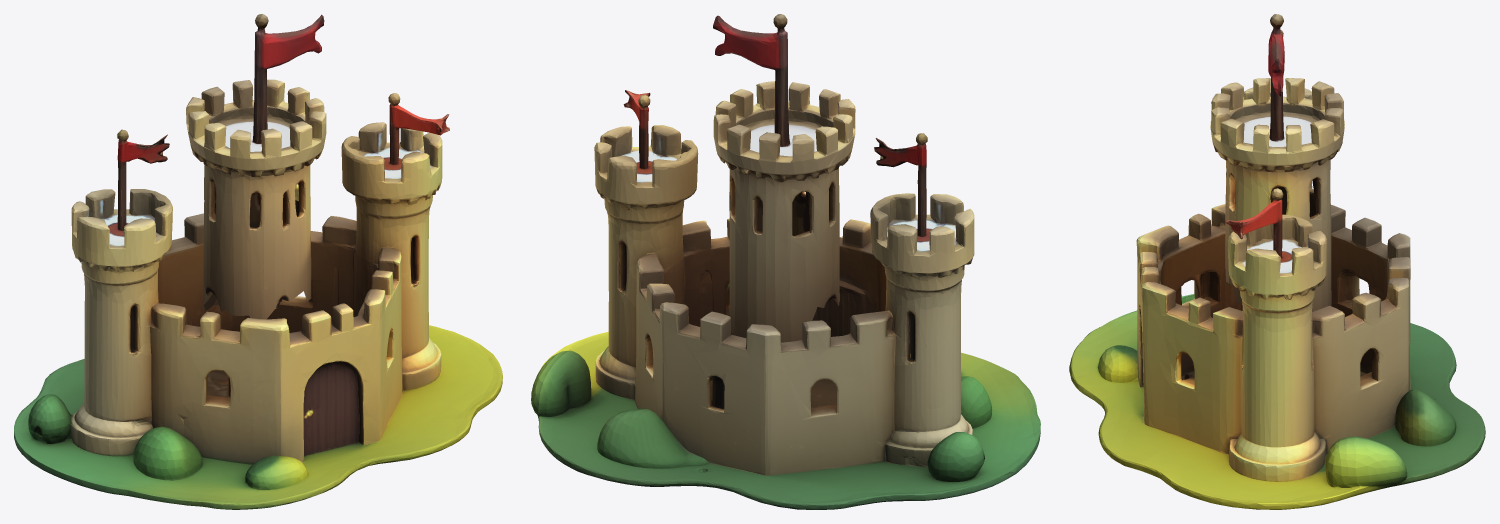
Rendered from castleModel.glb.
The picture shows the model from 3 angles, left to right: view 1: azimuth 30°, elevation 25°; view 2: azimuth 150°, elevation 25°; view 3: azimuth 270°, elevation 25°; orthographic projection. The views are drawn at different scales.
Parts seen in each view (by area): view 1: world; view 2: world; view 3: world.
Boxes of the visible parts, box(x1,y1,x2,y2) form: world: box(14, 14, 502, 509); world: box(531, 14, 1040, 509); world: box(1069, 14, 1485, 509).
Size of the model in its own units: 1 by 0.853 by 0.8048.
Materials: 1 (1 with a texture image).
